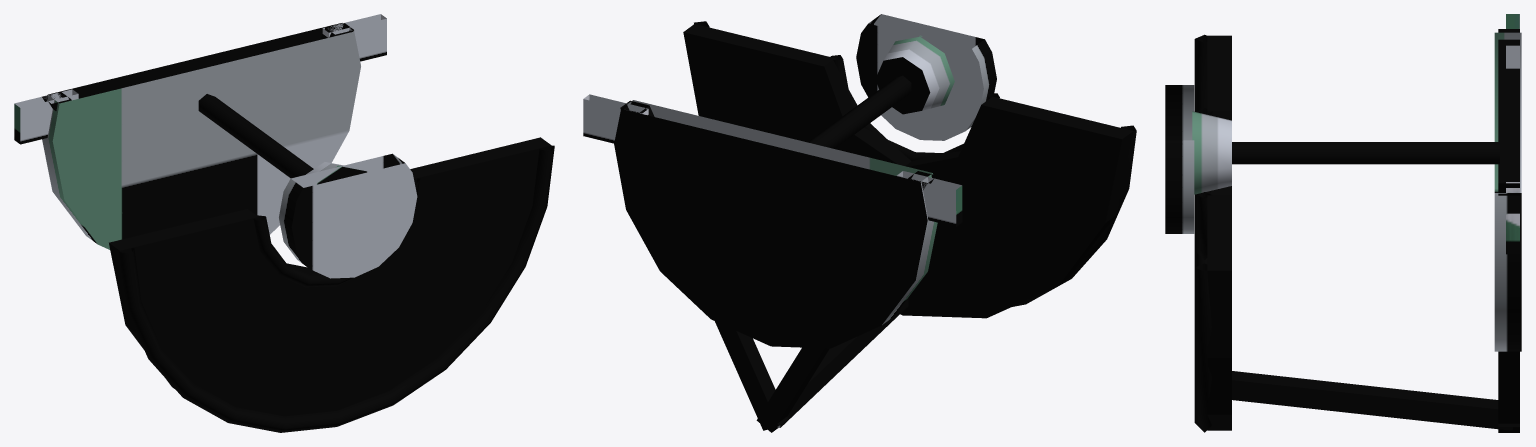
Rendered from section-1.obj.
3 renders of one model, left to right at view 1: azimuth 30°, elevation 25°; view 2: azimuth 150°, elevation 25°; view 3: azimuth 270°, elevation 25°, orthographic. The views are drawn at different scales.
Size of the model in its own units: 1.13 by 0.7021 by 0.717.
